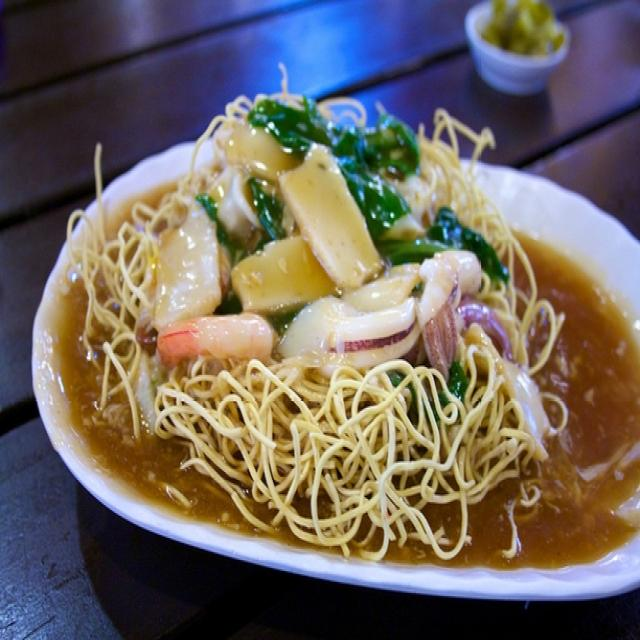面条主食: (49, 93, 626, 577)
